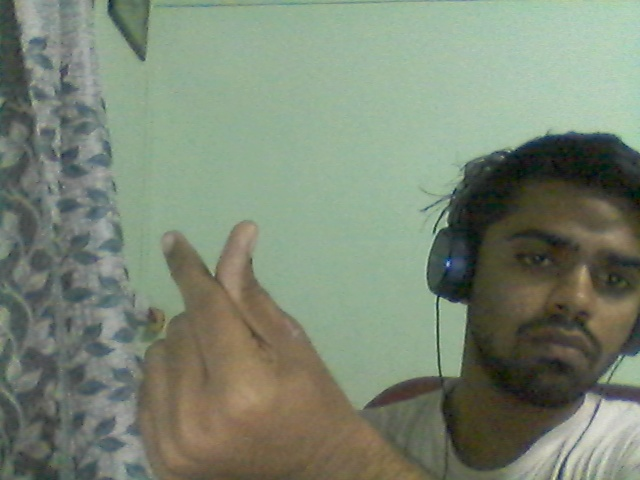I Love You: (113, 166, 362, 480)
